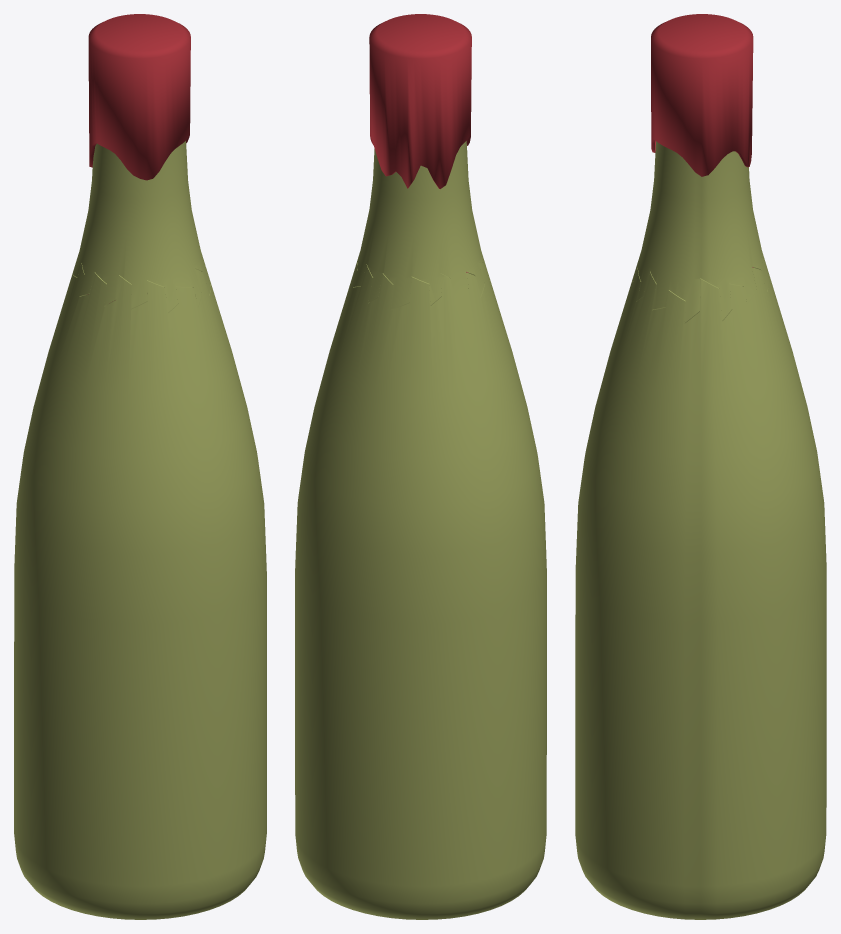
File: bottle_burgundy_broken.glb
The picture shows the model from 3 angles, left to right: view 1: azimuth 30°, elevation 25°; view 2: azimuth 150°, elevation 25°; view 3: azimuth 270°, elevation 25°; orthographic projection.
Visible parts, largest first — view 1: Glass.001, Neck, Cap; view 2: Glass.001, Cap, Neck; view 3: Glass.001, Neck, Cap.
Part boxes in pixels (<box>): Glass.001: <box>14,252,266,919</box>; Neck: <box>73,141,210,312</box>; Cap: <box>88,14,190,180</box>; Glass.001: <box>295,260,546,919</box>; Cap: <box>369,14,471,188</box>; Neck: <box>351,141,489,309</box>; Glass.001: <box>575,258,826,919</box>; Neck: <box>632,141,770,322</box>; Cap: <box>651,14,753,176</box>.
Size of the model in its own units: 0.0809 by 0.2977 by 0.0806.
